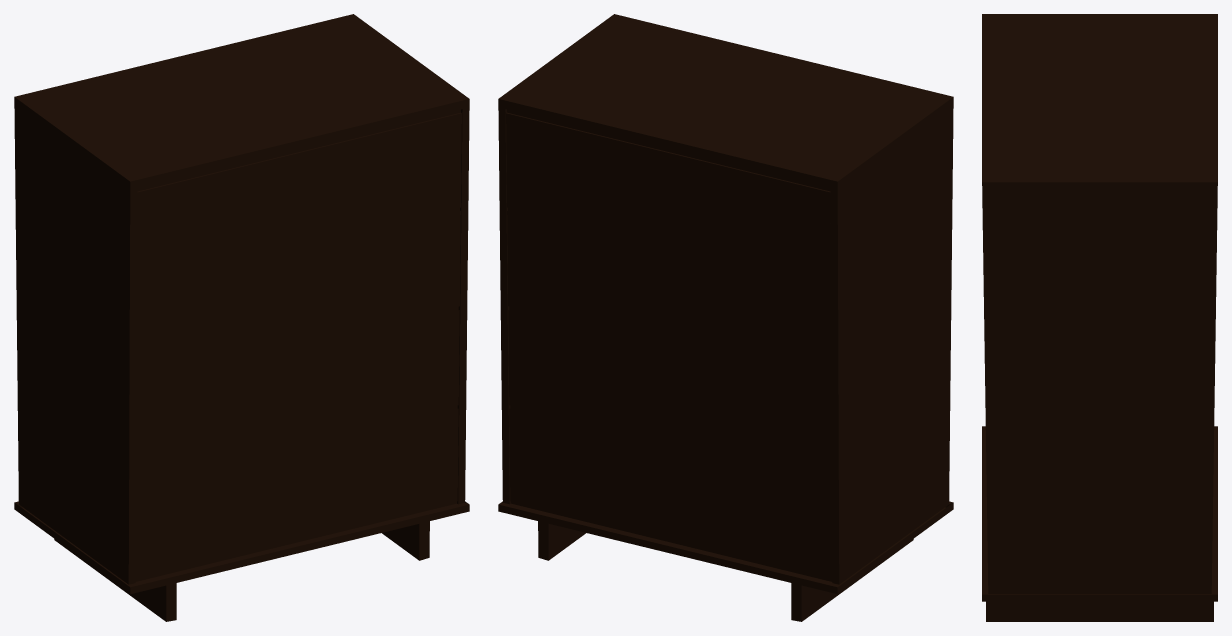
The model's file is dresser.fbx.
3 renders of one model, left to right at view 1: azimuth 30°, elevation 25°; view 2: azimuth 150°, elevation 25°; view 3: azimuth 270°, elevation 25°, orthographic.
Visible parts, largest first — view 1: Dresser; view 2: Dresser; view 3: Dresser.
Boxes of the visible parts, bbox=[...] form: Dresser: bbox=[14, 14, 469, 621]; Dresser: bbox=[498, 14, 953, 621]; Dresser: bbox=[982, 14, 1217, 621].
Bounding box in the file's own units: 63.5 × 80.77 × 37.59.
